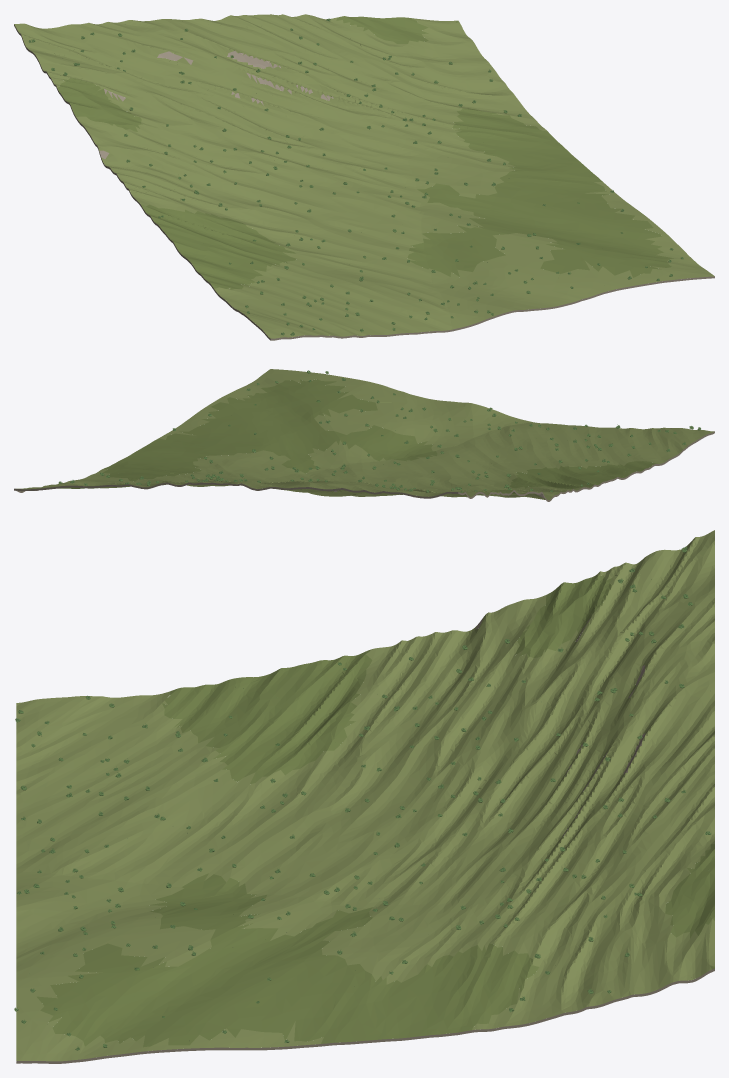
File: parca_+9_-6-yakin.glb
3 views of the same model, one above another, from view 1: azimuth 30°, elevation 25°; view 2: azimuth 150°, elevation 25°; view 3: azimuth 270°, elevation 25° (orthographic). The views are drawn at different scales.
Visible parts, largest first — view 1: parca_+9_-6_arazi, parca_+9_-6_bitkiler; view 2: parca_+9_-6_arazi, parca_+9_-6_bitkiler; view 3: parca_+9_-6_arazi, parca_+9_-6_bitkiler.
Part boxes in pixels (<box>): parca_+9_-6_arazi: <box>14,14,714,340</box>; parca_+9_-6_bitkiler: <box>28,18,683,335</box>; parca_+9_-6_arazi: <box>14,369,714,501</box>; parca_+9_-6_bitkiler: <box>58,370,700,492</box>; parca_+9_-6_arazi: <box>16,530,714,1063</box>; parca_+9_-6_bitkiler: <box>14,547,711,1050</box>.
Bounding box in the file's own units: 1000 × 377 × 1003.
